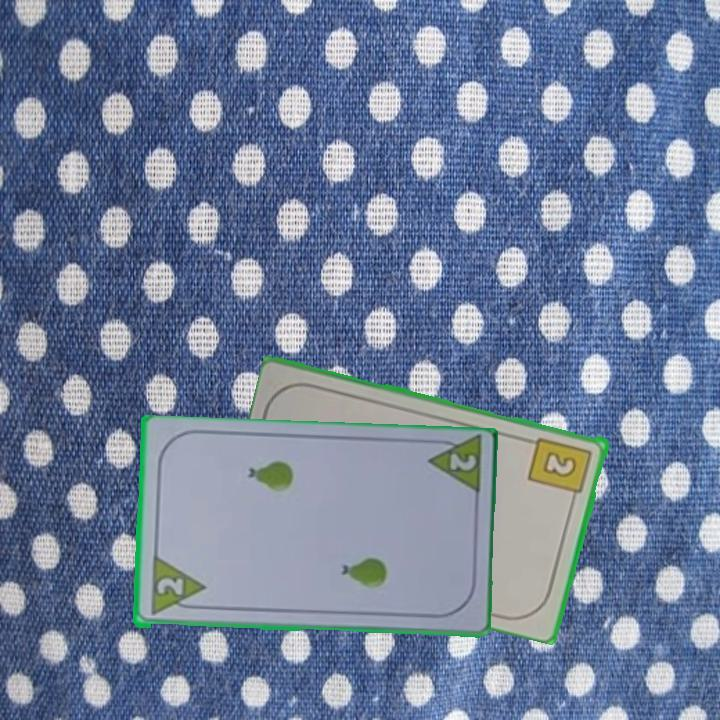2b: (526, 433, 596, 505)
2p: (147, 555, 207, 619), (445, 450, 479, 474)
